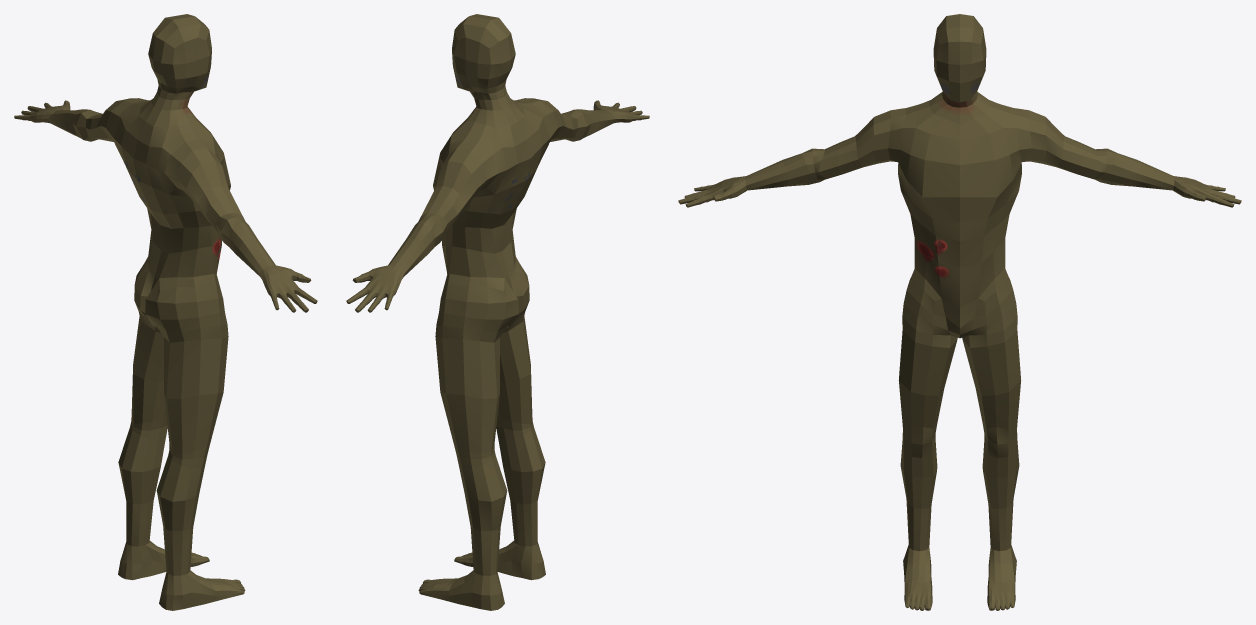
The model's file is body.glb.
3 renders of one model, left to right at view 1: azimuth 30°, elevation 25°; view 2: azimuth 150°, elevation 25°; view 3: azimuth 270°, elevation 25°, orthographic.
Parts seen in each view (by area): view 1: Cube; view 2: Cube; view 3: Cube.
Boxes of the visible parts, bbox=[...] form: Cube: bbox=[14, 14, 317, 610]; Cube: bbox=[346, 14, 649, 610]; Cube: bbox=[678, 14, 1241, 610].
Bounding box in the file's own units: 0.7593 × 4.5 × 4.01.
1 material, 1 textured.
